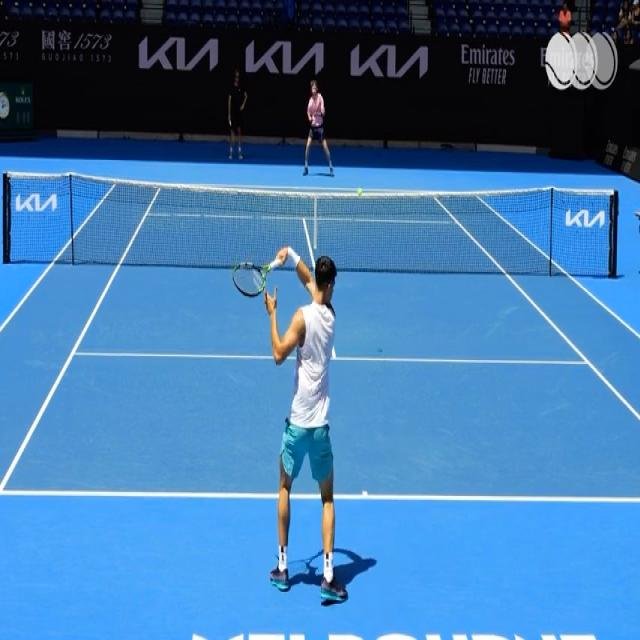forehand-finish: (230, 226, 361, 604)
